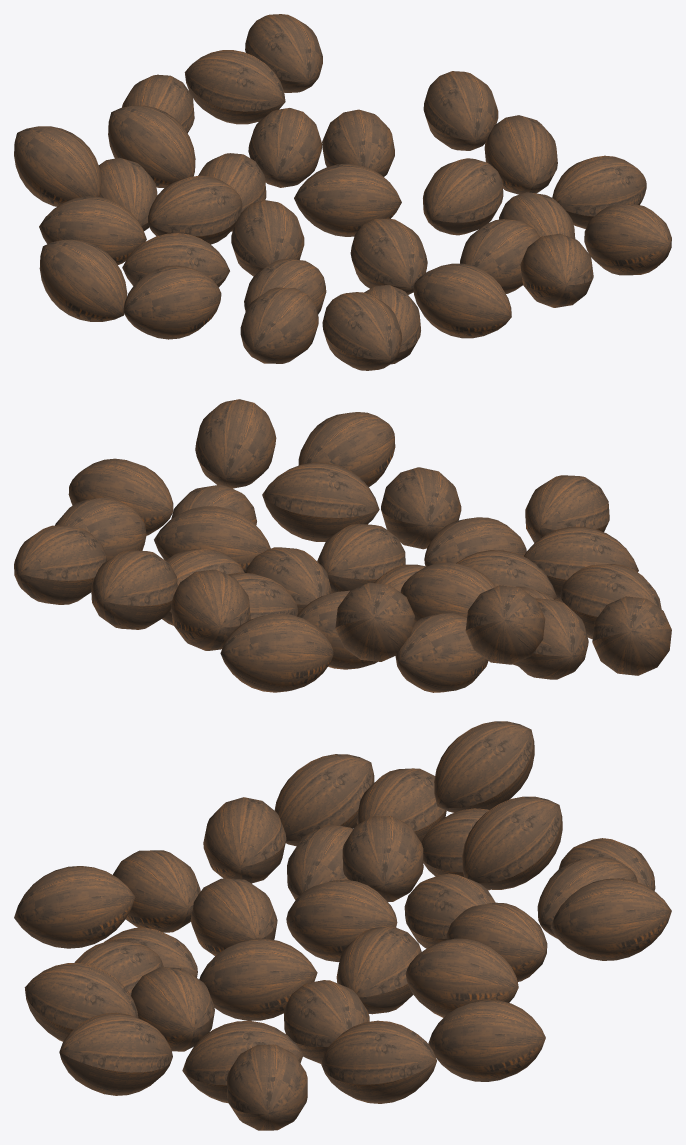
Rendered from wuhuaguo.fbx.
3 renders of one model, top to bottom at view 1: azimuth 30°, elevation 25°; view 2: azimuth 150°, elevation 25°; view 3: azimuth 270°, elevation 25°, orthographic. The views are drawn at different scales.
Parts seen in each view (by area): view 1: Mesh2086; view 2: Mesh2086; view 3: Mesh2086.
Boxes of the visible parts, box(x1,y1,x2,y2) form: Mesh2086: box(14, 14, 671, 370); Mesh2086: box(14, 399, 671, 692); Mesh2086: box(14, 721, 671, 1130).
Size of the model in its own units: 384 by 104 by 337.
Materials: 30 (30 with a texture image).
